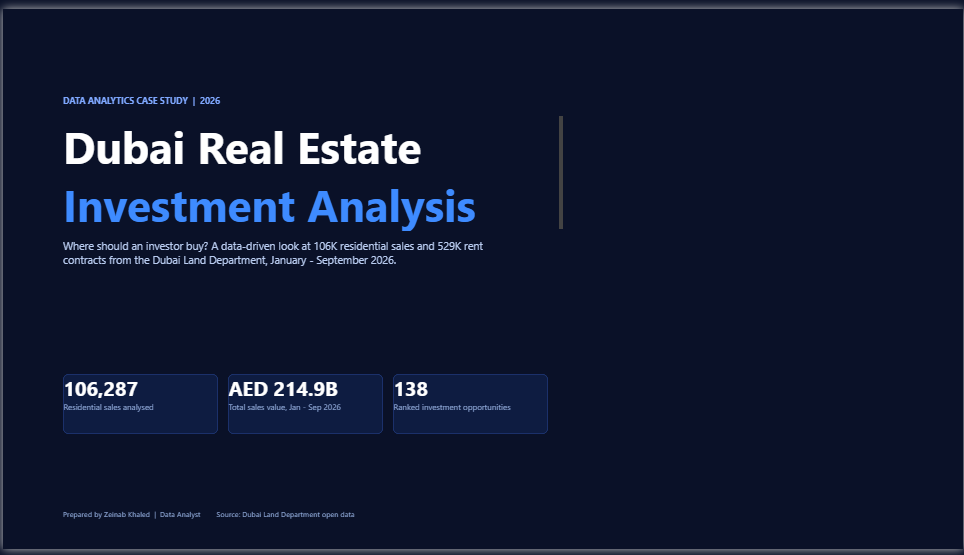

Layout of this report page (visuals, bound fields, positions):
{"tool":"powerbi","page":{"name":"Cover","canvas":[1920,1080],"ordinal":0},"visuals":[{"type":"textbox","box":[120,170,900,40],"z":1000},{"type":"textbox","box":[120,214,1000,230],"z":2000},{"type":"textbox","box":[120,458,880,110],"z":3000},{"type":"textbox","box":[120,730,310,120],"z":4000},{"type":"textbox","box":[450,730,310,120],"z":5000},{"type":"textbox","box":[780,730,310,120],"z":6000},{"type":"textbox","box":[120,1000,1400,36],"z":7000}]}

Visuals, with their boxes in screenshot pixels (x1, y1, x2, y2), scaled from the page's 1920x1080 canvas onto the 964x555 screenshot:
textbox: [left=60, top=87, right=512, bottom=108]
textbox: [left=60, top=110, right=562, bottom=228]
textbox: [left=60, top=235, right=502, bottom=292]
textbox: [left=60, top=375, right=216, bottom=437]
textbox: [left=226, top=375, right=382, bottom=437]
textbox: [left=392, top=375, right=547, bottom=437]
textbox: [left=60, top=514, right=763, bottom=532]
